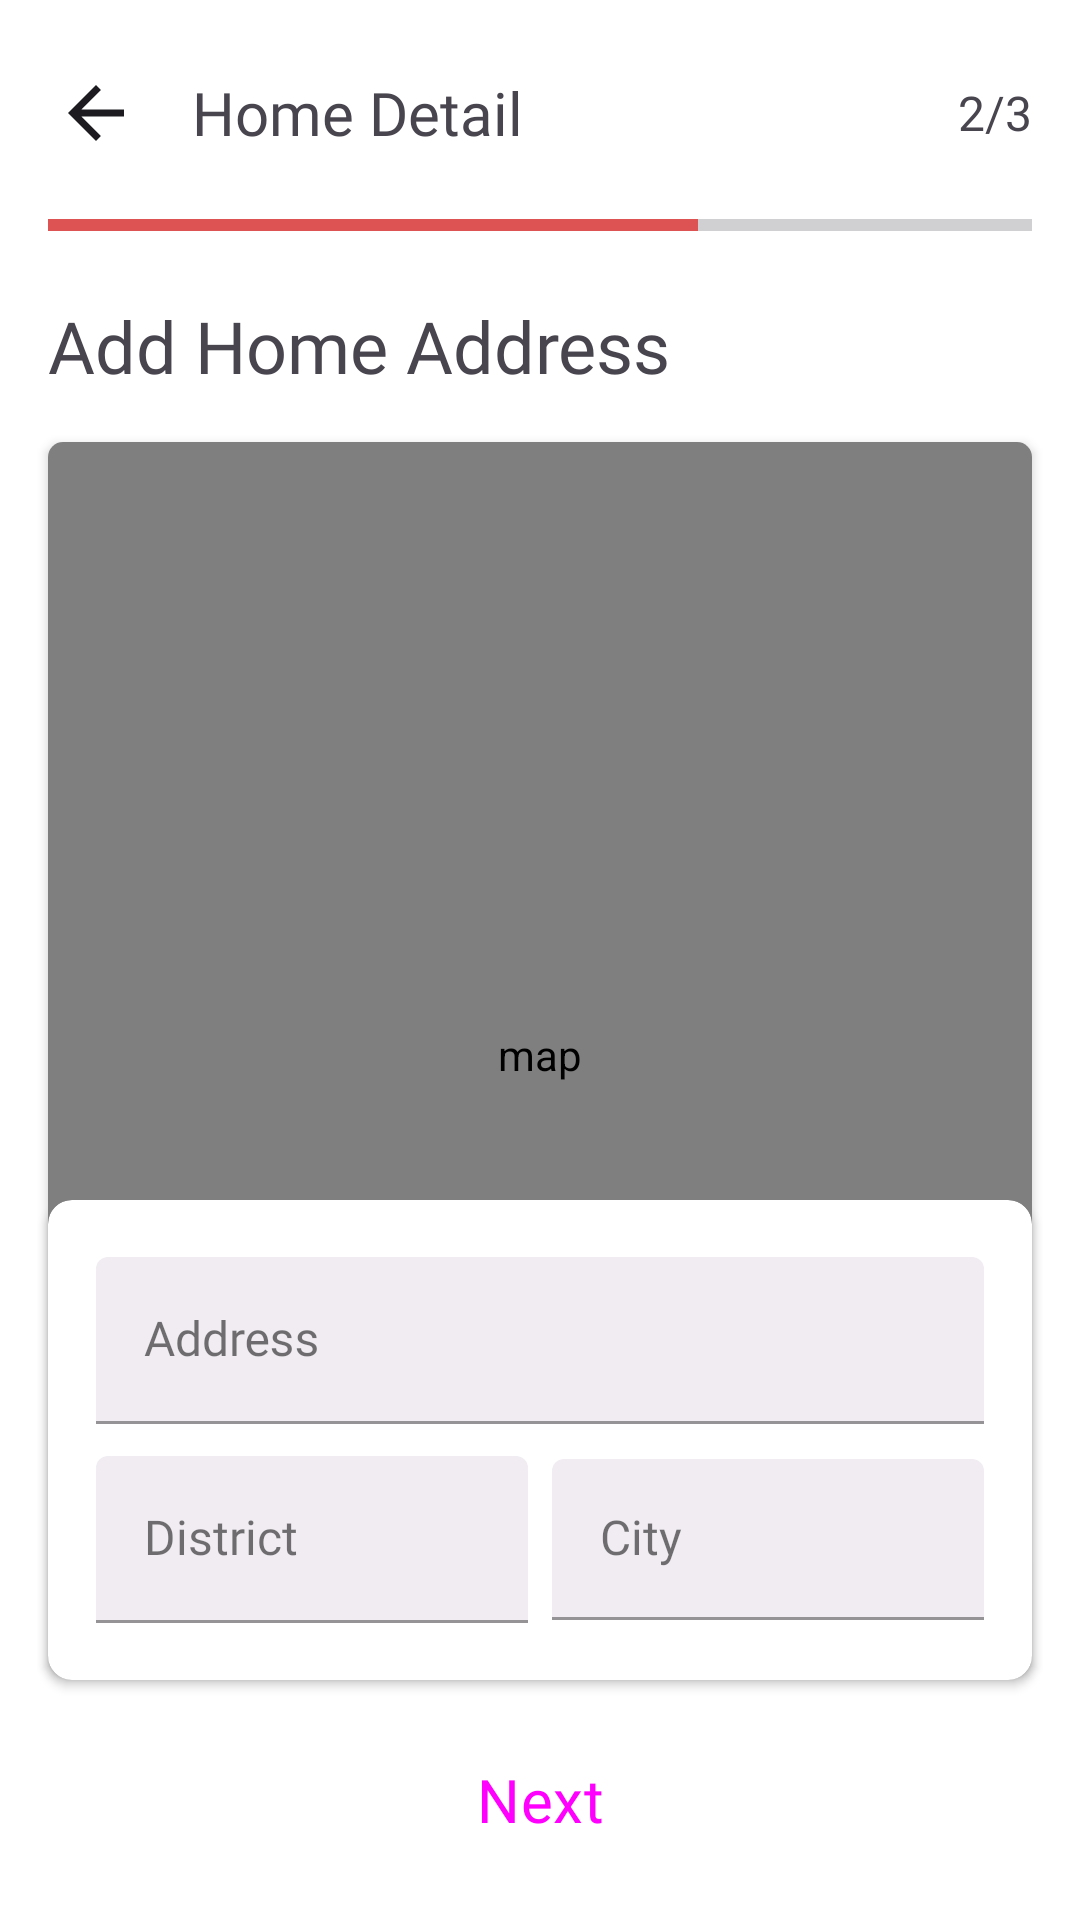

Point at icon controls on the screen. Image size 1080×1920, points as (x=x, y=y).
back: (x=96, y=113)
